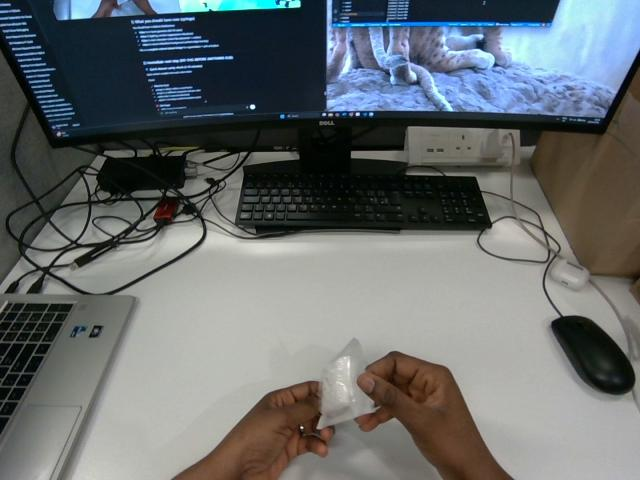gauze: (317, 338, 375, 428)
